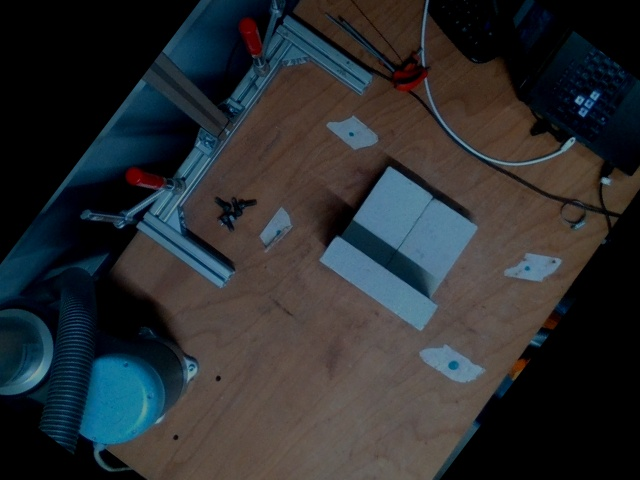brick-side: (320, 235, 439, 331)
